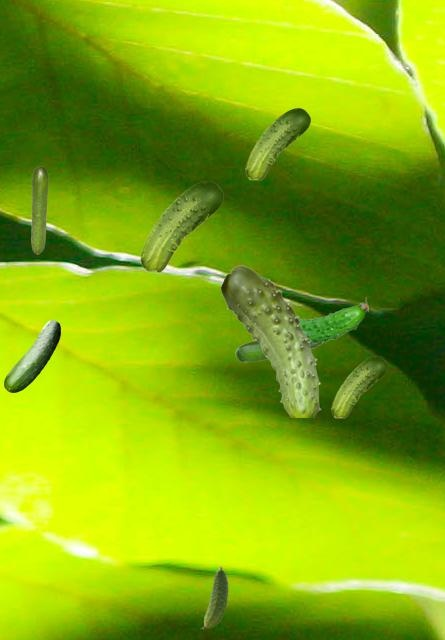cucumber: (220, 265, 320, 416), (140, 181, 222, 271), (245, 108, 309, 179), (4, 320, 59, 391), (331, 356, 386, 417), (299, 297, 367, 345), (235, 341, 322, 361), (200, 566, 227, 628), (31, 166, 47, 253)
